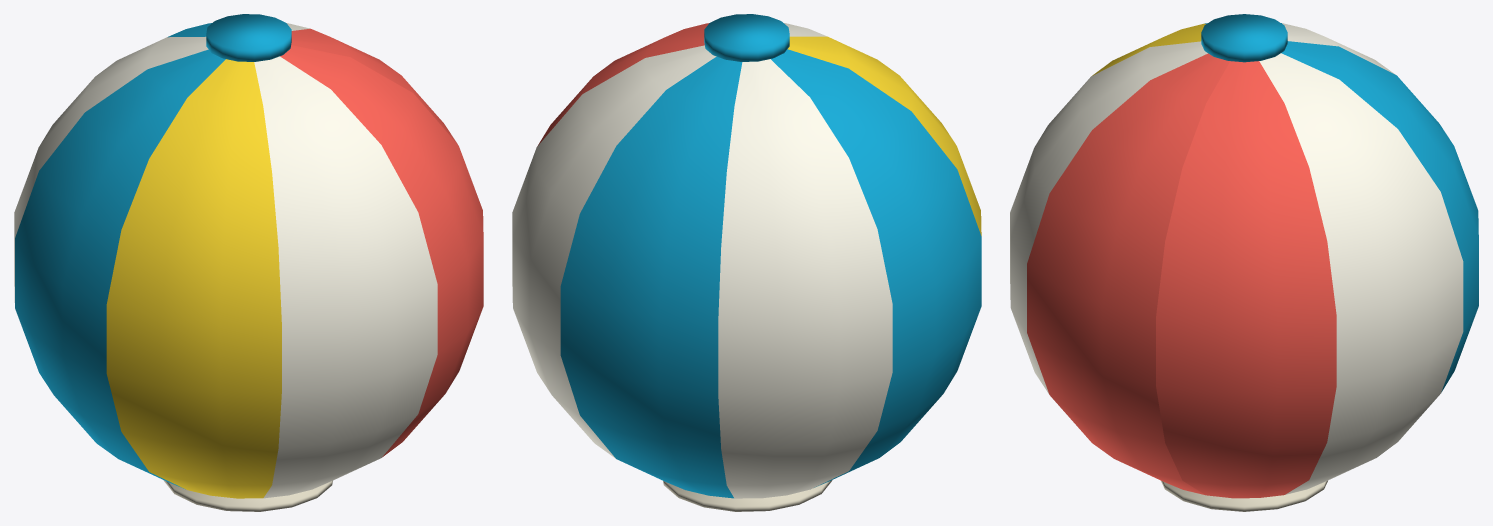
The model's file is BeachBall.glb.
3 views of the same model, side by side, from view 1: azimuth 30°, elevation 25°; view 2: azimuth 150°, elevation 25°; view 3: azimuth 270°, elevation 25° (orthographic).
Visible parts, largest first — view 1: BeachBall_PanelYellow01, BeachBall_PanelWhite03, BeachBall_PanelTeal02, BeachBall_PanelCoral02, BeachBall_PanelWhite02, BeachBall_Cap, BeachBall_ContactPatch, BeachBall_PanelCoral01; view 2: BeachBall_PanelWhite02, BeachBall_PanelTeal01, BeachBall_PanelTeal02, BeachBall_PanelWhite01, BeachBall_PanelYellow01, BeachBall_Cap, BeachBall_PanelCoral01, BeachBall_ContactPatch; view 3: BeachBall_PanelCoral01, BeachBall_PanelCoral02, BeachBall_PanelWhite01, BeachBall_PanelWhite03, BeachBall_PanelTeal01, BeachBall_Cap, BeachBall_ContactPatch, BeachBall_PanelYellow01, BeachBall_PanelWhite02.
Boxes of the visible parts, x1,y1,x2,y2 form: BeachBall_PanelYellow01: [106, 59, 281, 498]; BeachBall_PanelWhite03: [254, 56, 437, 498]; BeachBall_PanelTeal02: [15, 49, 225, 489]; BeachBall_PanelCoral02: [280, 45, 483, 457]; BeachBall_PanelWhite02: [14, 36, 208, 302]; BeachBall_Cap: [206, 14, 291, 61]; BeachBall_ContactPatch: [163, 480, 332, 511]; BeachBall_PanelCoral01: [291, 28, 457, 144]; BeachBall_PanelWhite02: [718, 59, 892, 498]; BeachBall_PanelTeal01: [560, 56, 742, 498]; BeachBall_PanelTeal02: [771, 49, 981, 487]; BeachBall_PanelWhite01: [512, 45, 716, 458]; BeachBall_PanelYellow01: [787, 36, 981, 235]; BeachBall_Cap: [704, 14, 789, 61]; BeachBall_PanelCoral01: [537, 29, 704, 146]; BeachBall_ContactPatch: [663, 480, 832, 511]; BeachBall_PanelCoral01: [1156, 61, 1336, 498]; BeachBall_PanelCoral02: [1027, 53, 1230, 495]; BeachBall_PanelWhite01: [1259, 53, 1463, 494]; BeachBall_PanelWhite03: [1010, 41, 1207, 394]; BeachBall_PanelTeal01: [1281, 41, 1478, 392]; BeachBall_Cap: [1201, 14, 1287, 62]; BeachBall_ContactPatch: [1161, 480, 1327, 511]; BeachBall_PanelYellow01: [1091, 23, 1205, 76]; BeachBall_PanelWhite02: [1282, 23, 1395, 74].
Bounding box in the file's own units: 1.96 × 2.04 × 1.96.
